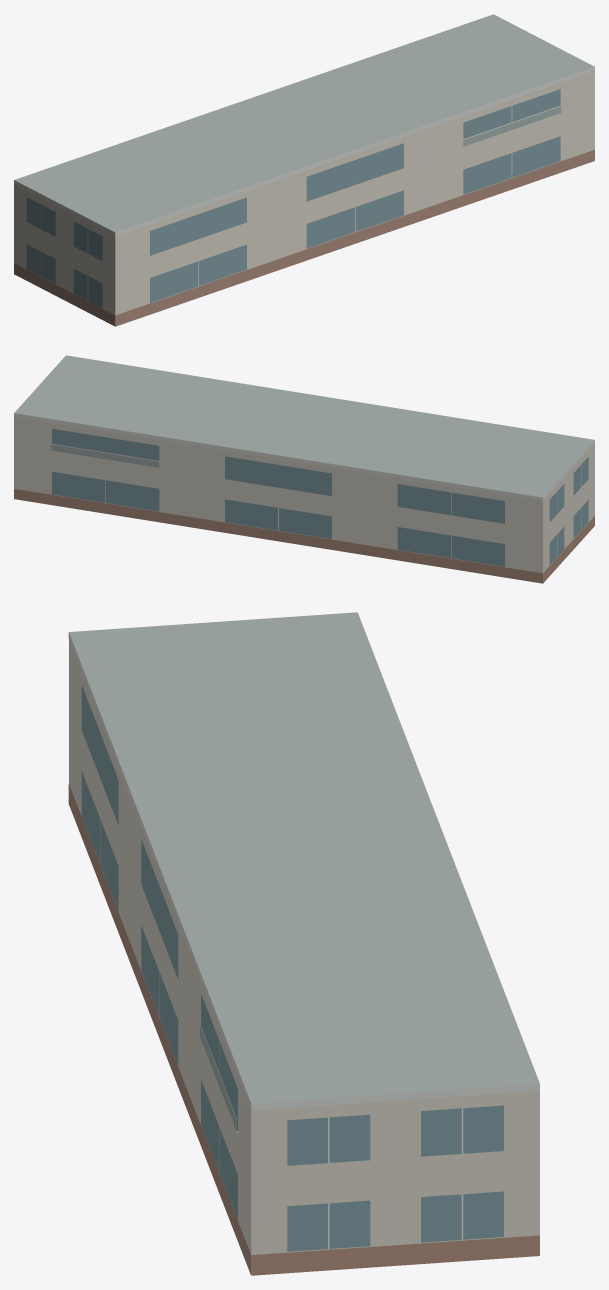
File: survey-upis-32932024.glb
The picture shows the model from 3 angles, top to bottom: view 1: azimuth 30°, elevation 25°; view 2: azimuth 150°, elevation 25°; view 3: azimuth 270°, elevation 25°; orthographic projection. The views are drawn at different scales.
Parts seen in each view (by area): view 1: survey-upis-32932024.tmp; view 2: survey-upis-32932024.tmp; view 3: survey-upis-32932024.tmp.
Part boxes in pixels (left/top/right/bottom): survey-upis-32932024.tmp: left=14, top=14, right=594, bottom=326; survey-upis-32932024.tmp: left=14, top=355, right=594, bottom=583; survey-upis-32932024.tmp: left=68, top=612, right=539, bottom=1275.
Bounding box in the file's own units: 37.4 × 6.1 × 15.16.
